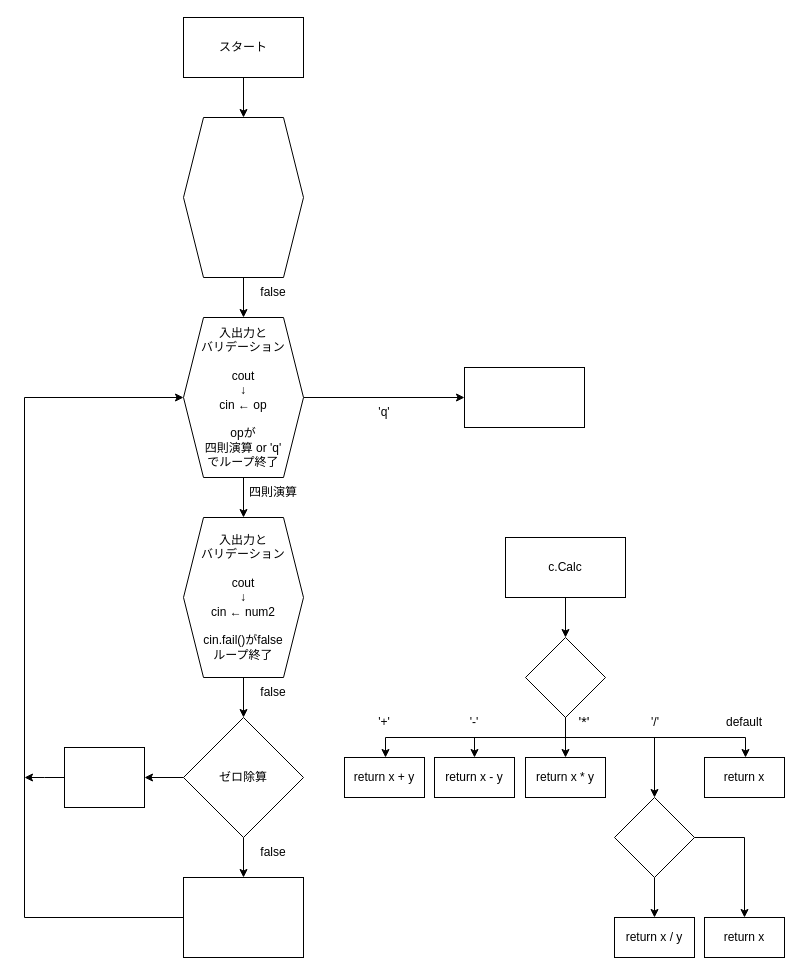
The diagram is 802 pixels wide and 975 high, and some of its shapes have lost their labels. Here are the shapes that lost their labels. From the top down, the centre of each, then its label:
At (x=243, y=197): "入出力と バリデーション cout ↓ cin ← num1 cin.fail()がfalse ループ終了".
At (x=524, y=397): "終了".
At (x=565, y=677): "switch (op)".
At (x=104, y=777): "cout".
At (x=654, y=837): "y == 0".
At (x=243, y=917): "cout ↓ num1 ← c.Calc ↓ cout".
